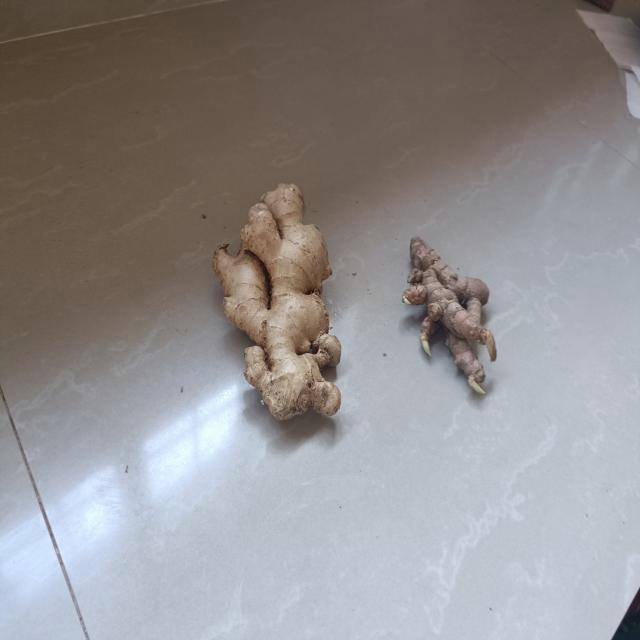ginger: (208, 176, 347, 428), (401, 235, 500, 400)
